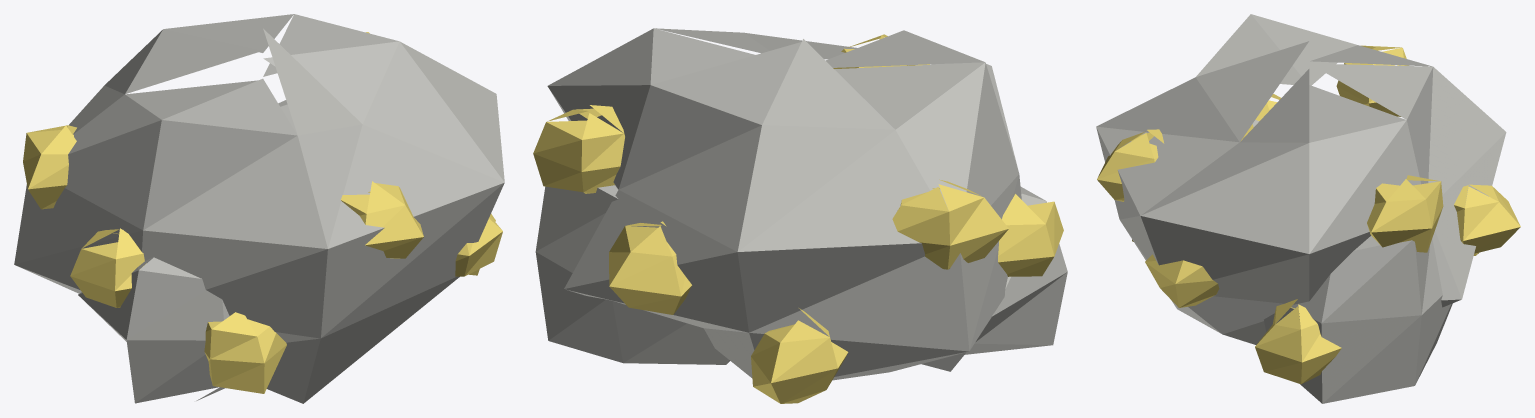
The model's file is wipe-day-survival-island-sulfur-ore-node-2d51b0d2__27424.glb.
The picture shows the model from 3 angles, left to right: view 1: azimuth 30°, elevation 25°; view 2: azimuth 150°, elevation 25°; view 3: azimuth 270°, elevation 25°; orthographic projection. The views are drawn at different scales.
Visible parts, largest first — view 1: sulfur-ore-node; view 2: sulfur-ore-node; view 3: sulfur-ore-node.
Boxes of the visible parts, left/top/right/bottom form: sulfur-ore-node: left=14, top=14, right=504, bottom=403; sulfur-ore-node: left=533, top=28, right=1067, bottom=403; sulfur-ore-node: left=1096, top=14, right=1520, bottom=403.
Bounding box in the file's own units: 1.54 × 1.14 × 1.42.
